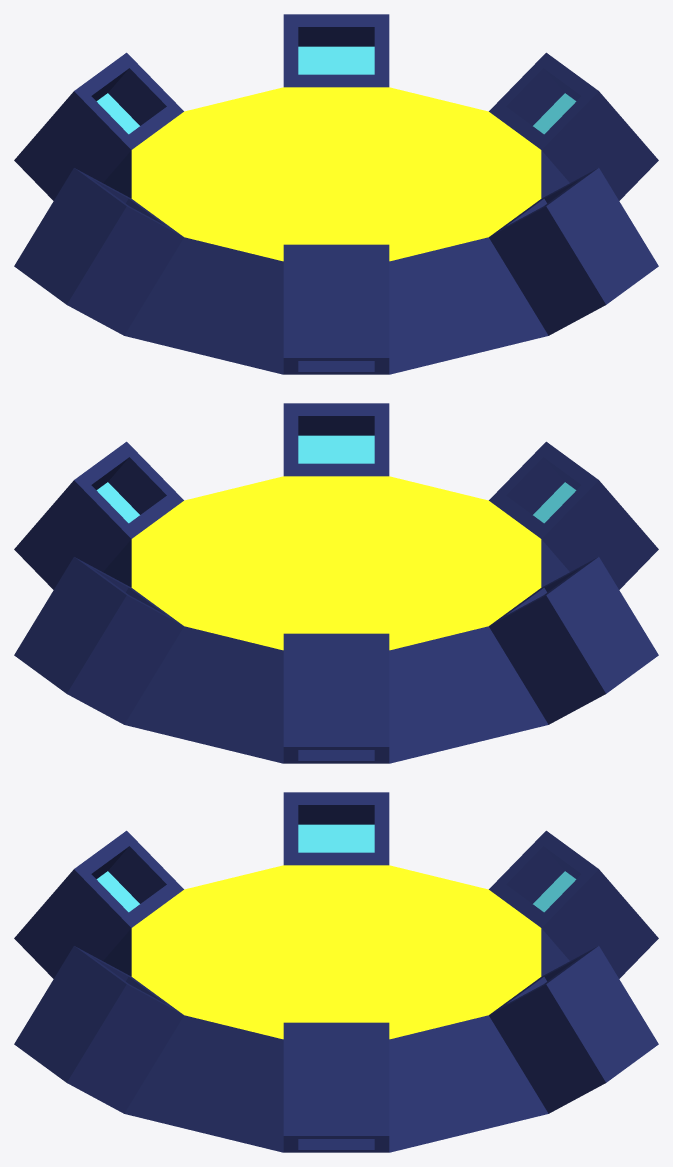
The model's file is bouncePad.fbx.
The picture shows the model from 3 angles, top to bottom: view 1: azimuth 30°, elevation 25°; view 2: azimuth 150°, elevation 25°; view 3: azimuth 270°, elevation 25°; orthographic projection.
Visible parts, largest first — view 1: Cone001; view 2: Cone001; view 3: Cone001.
Boxes of the visible parts, box(x1,y1,x2,y2) form: Cone001: box(14, 14, 658, 374); Cone001: box(14, 403, 658, 763); Cone001: box(14, 792, 658, 1152).
Size of the model in its own units: 20.59 by 4.29 by 19.42.
